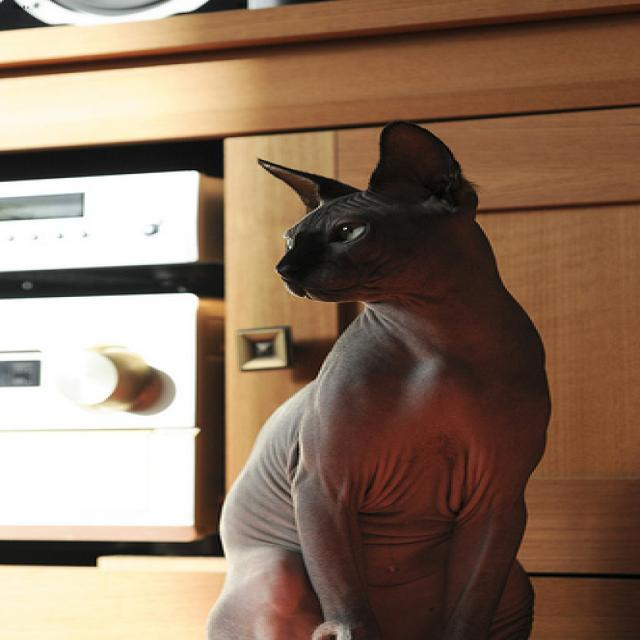cat: (256, 119, 463, 300)
